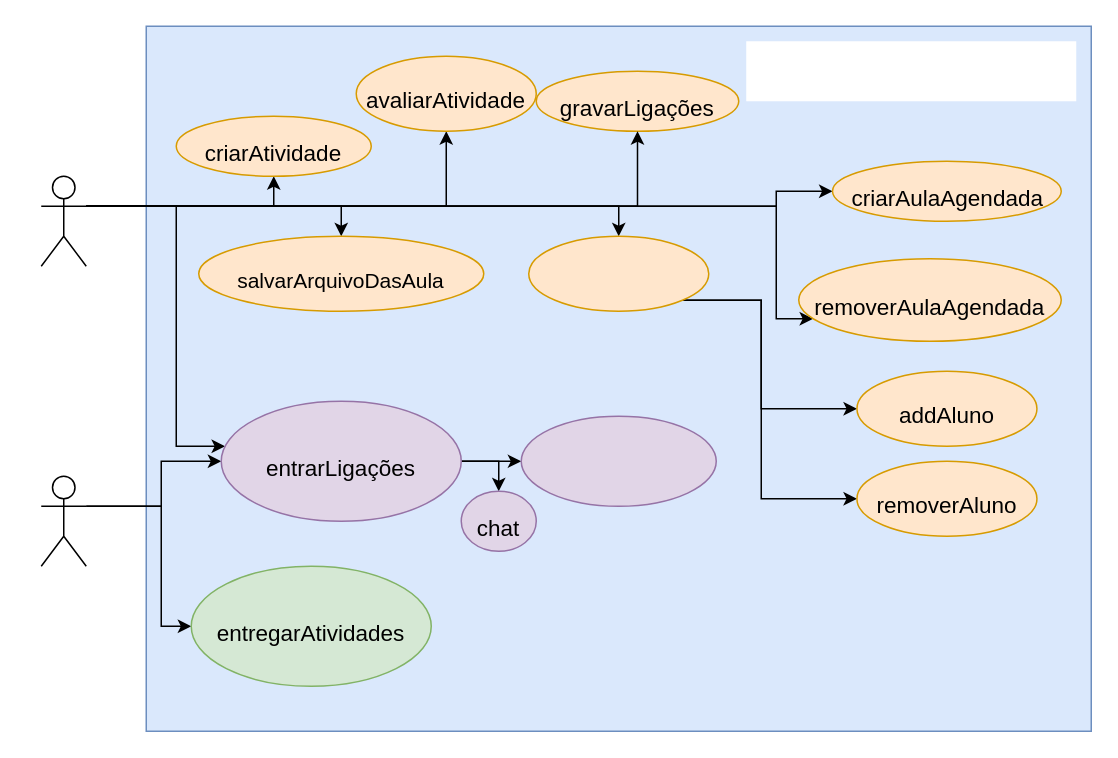
This 1118x758 diagram has some shape labels left out. The box of each missing label's shape, as (x1, y1, x2, y2) in pixels:
Aluno: (40, 475, 86, 566)
apresentarTela: (520, 415, 716, 506)
criarTurma: (527, 235, 709, 311)
Plataforma de ensino: (746, 40, 1076, 100)
Professor: (40, 175, 86, 266)
